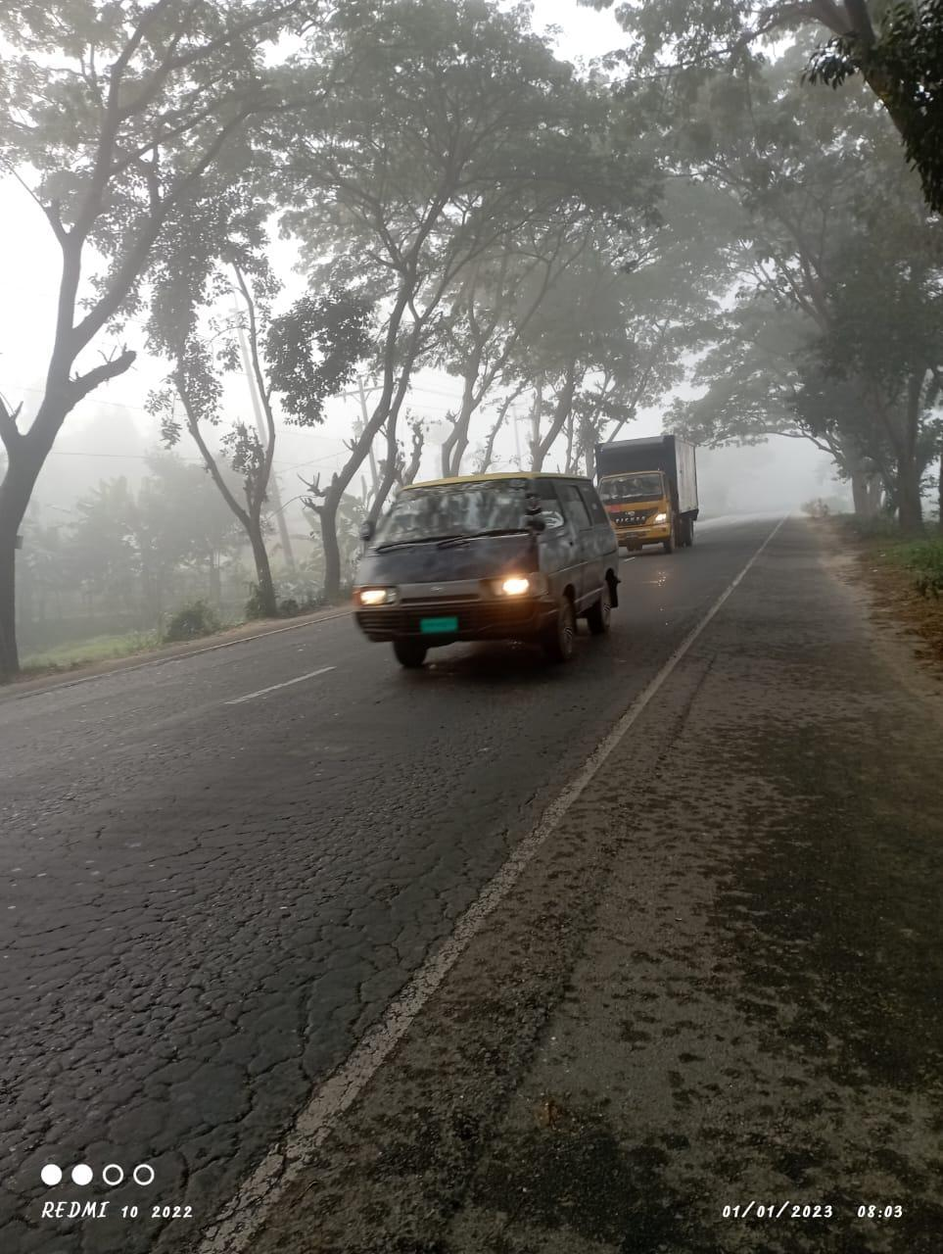Car: (337, 446, 629, 667)
Truck: (588, 428, 714, 567)
